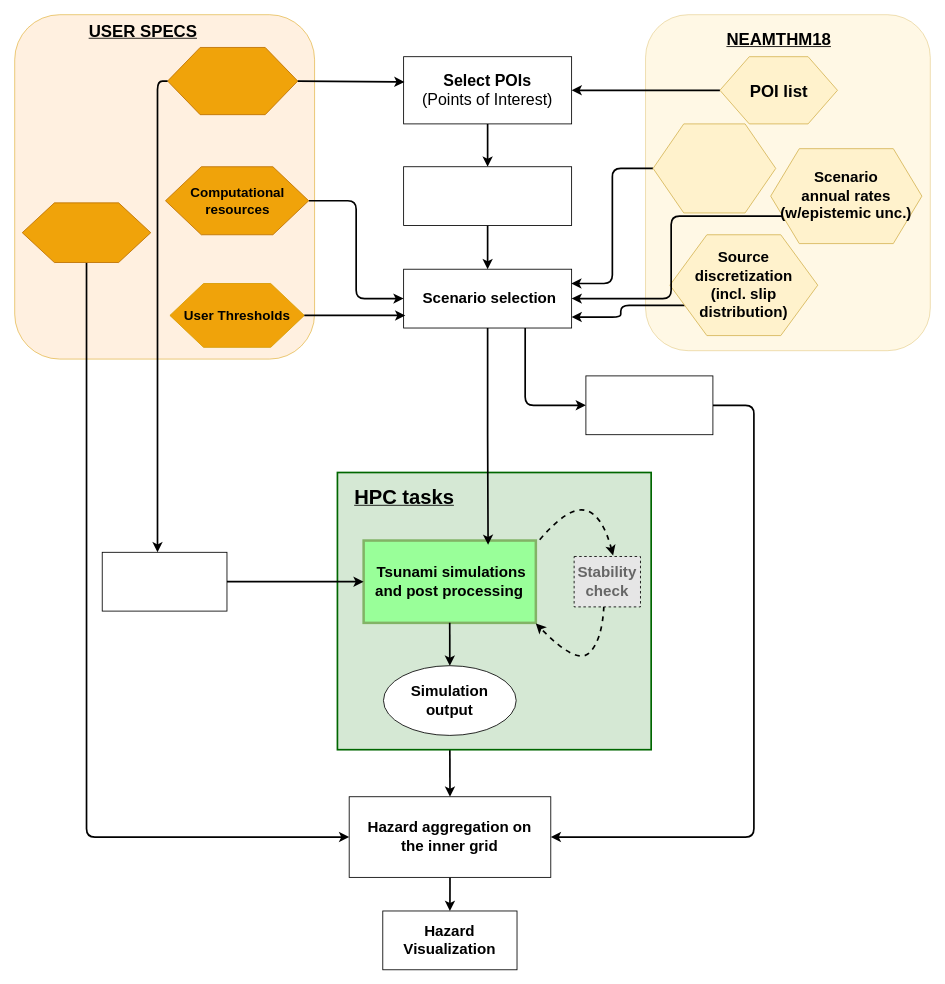
Image size: 945x984. Some labels were removed from this diagram. The shapes that lost their labels are listed below. From the top down, each one's centre as x and y in pixels, then its label:
[232,81]: Bathymetry for target regio n
[714,168]: Hazard curves
[487,196]: Scenario dumping (all contributing scenarios)
[86,232]: Hazard metrics
[649,405]: Retrieving annual rates
[164,581]: Telescopic Grid setup
